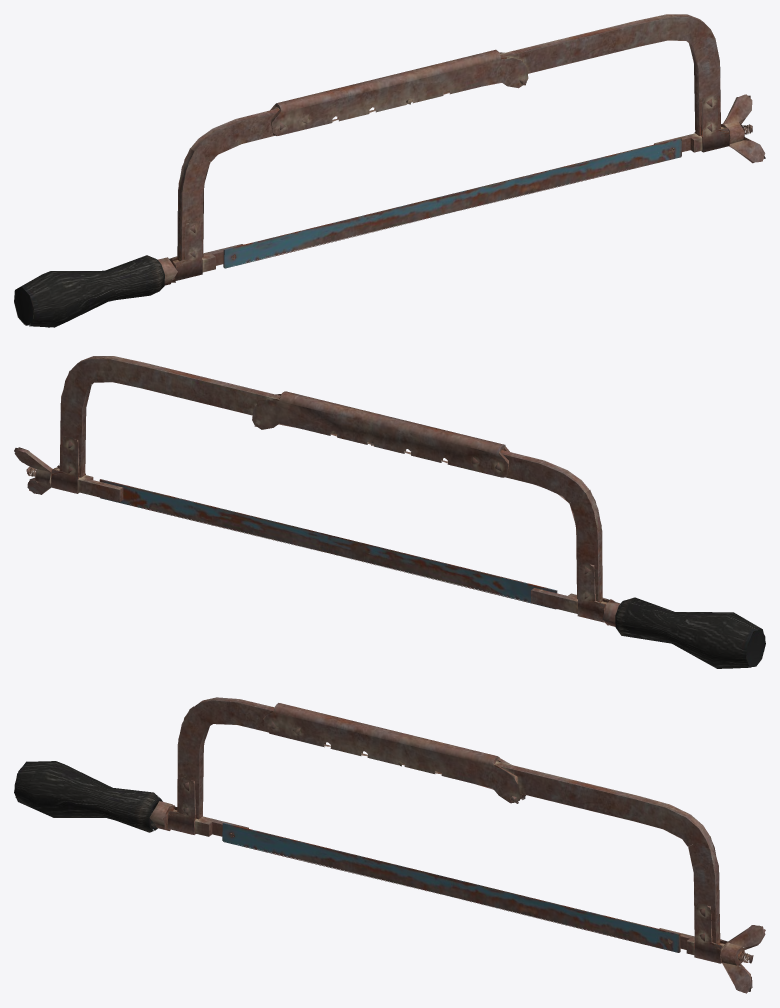
File: rusted_hacksaw.glb
The picture shows the model from 3 angles, top to bottom: view 1: azimuth 30°, elevation 25°; view 2: azimuth 150°, elevation 25°; view 3: azimuth 330°, elevation 25°; orthographic projection.
Visible parts, largest first — view 1: rusted_hacksaw; view 2: rusted_hacksaw; view 3: rusted_hacksaw.
Part boxes in pixels (x1,y1,x2,y2): rusted_hacksaw: (14, 14, 765, 327); rusted_hacksaw: (14, 356, 765, 668); rusted_hacksaw: (14, 697, 765, 993).
Bounding box in the file's own units: 0.4965 × 0.1091 × 0.0343.
Materials: 1 (1 with a texture image).
